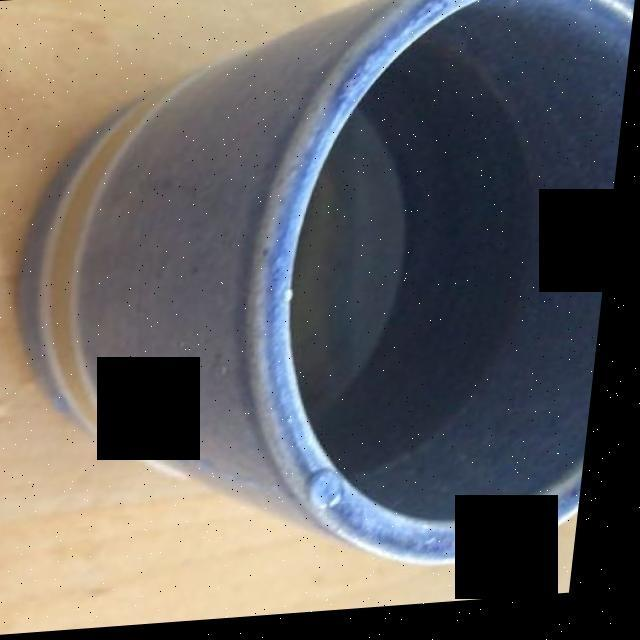water: (290, 42, 549, 489)
